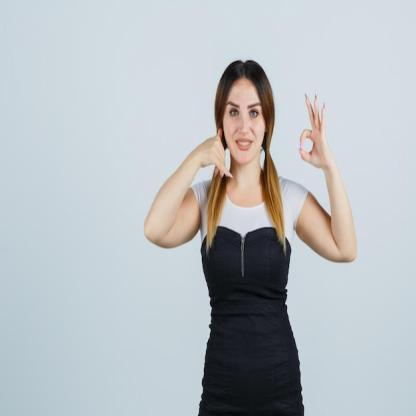ok: (296, 91, 330, 172)
